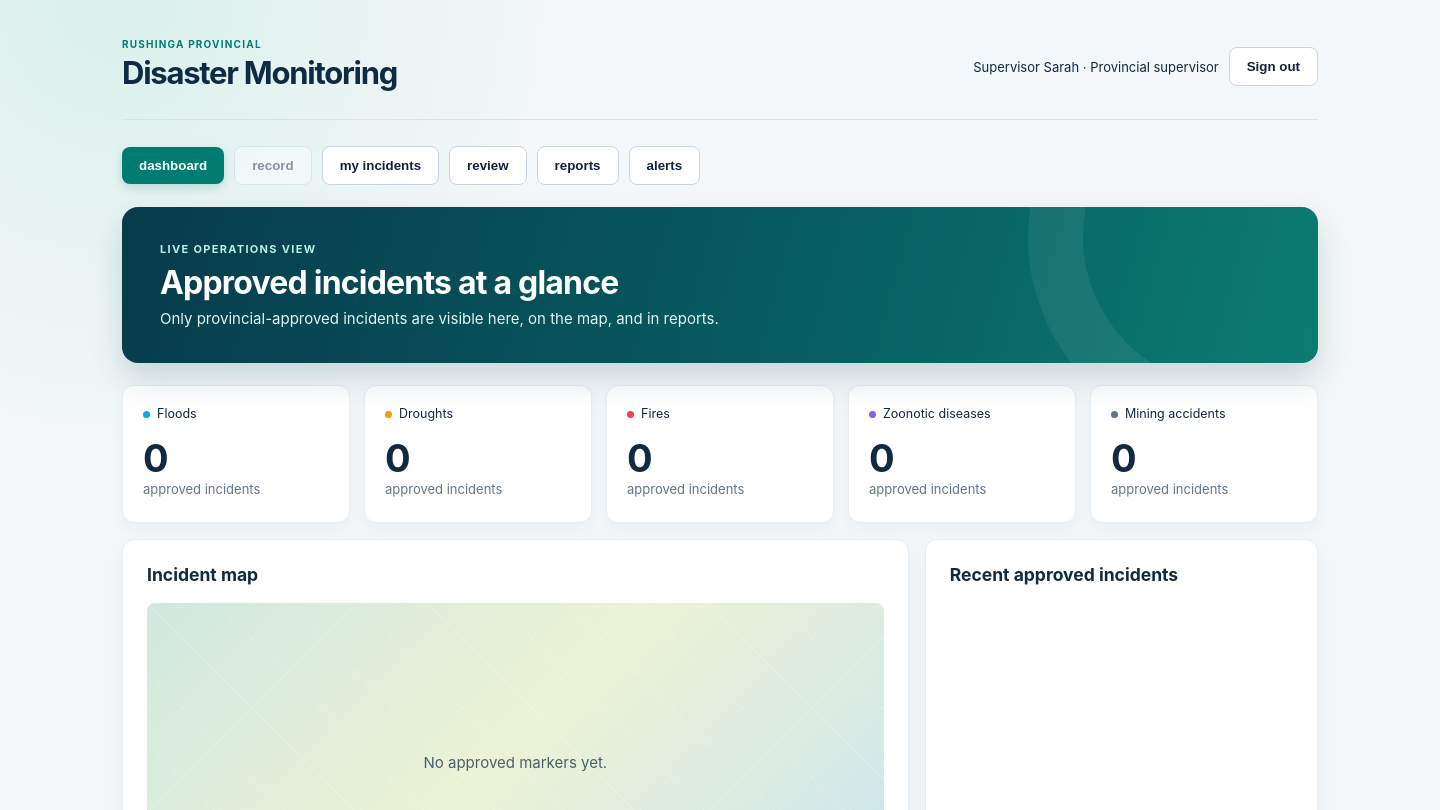
Scenario: Supervisor Review, Decision and Dashboard Isolation Workflow › requests correction with mandatory reason and transitions incident to CORRECTION_REQUESTED
Click the button "review" at {"x": 488, "y": 166}, box x1=449 y1=146 x2=527 y2=185
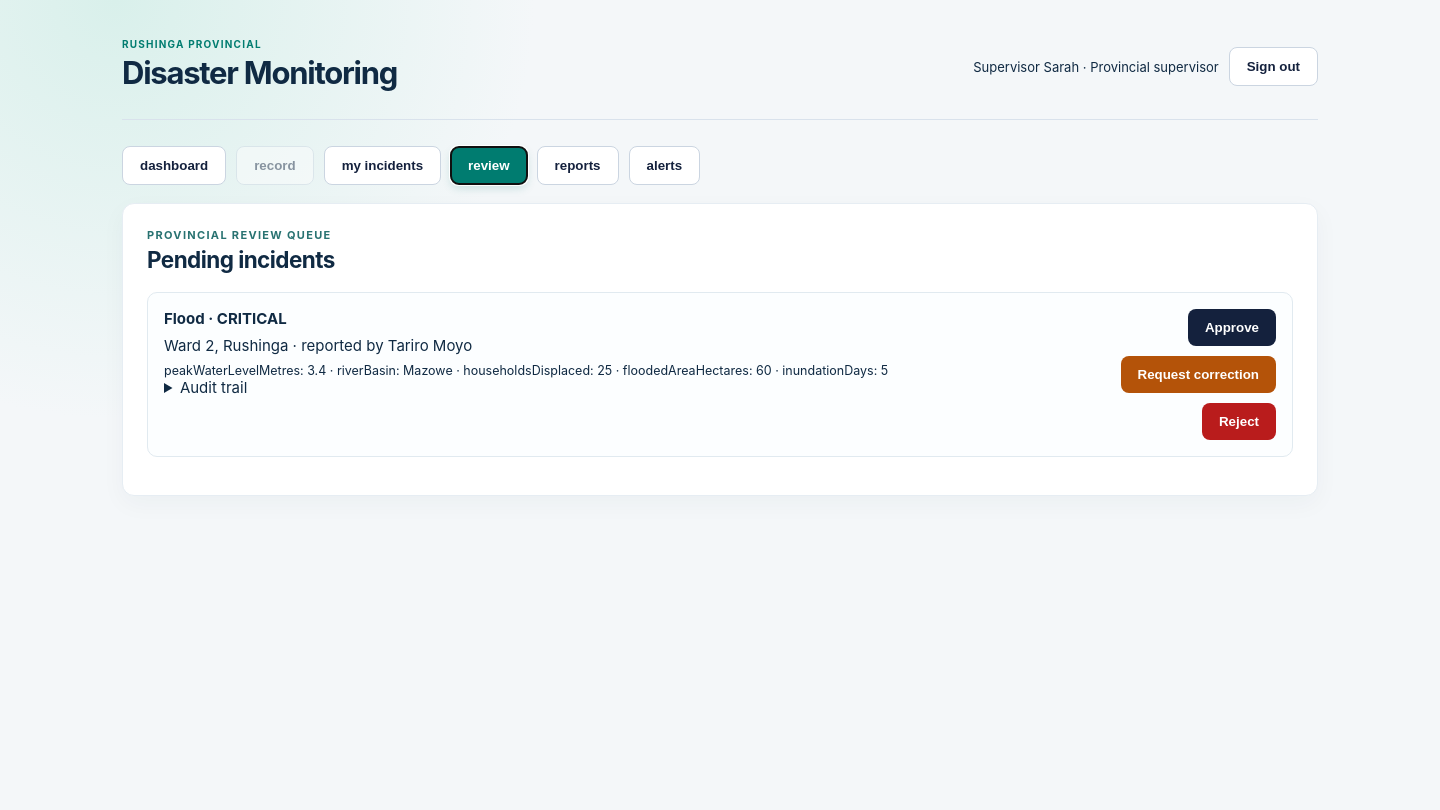
Click Request correction
Click the button "Request correction" at {"x": 1198, "y": 374}, box x1=1120 y1=356 x2=1276 y2=393
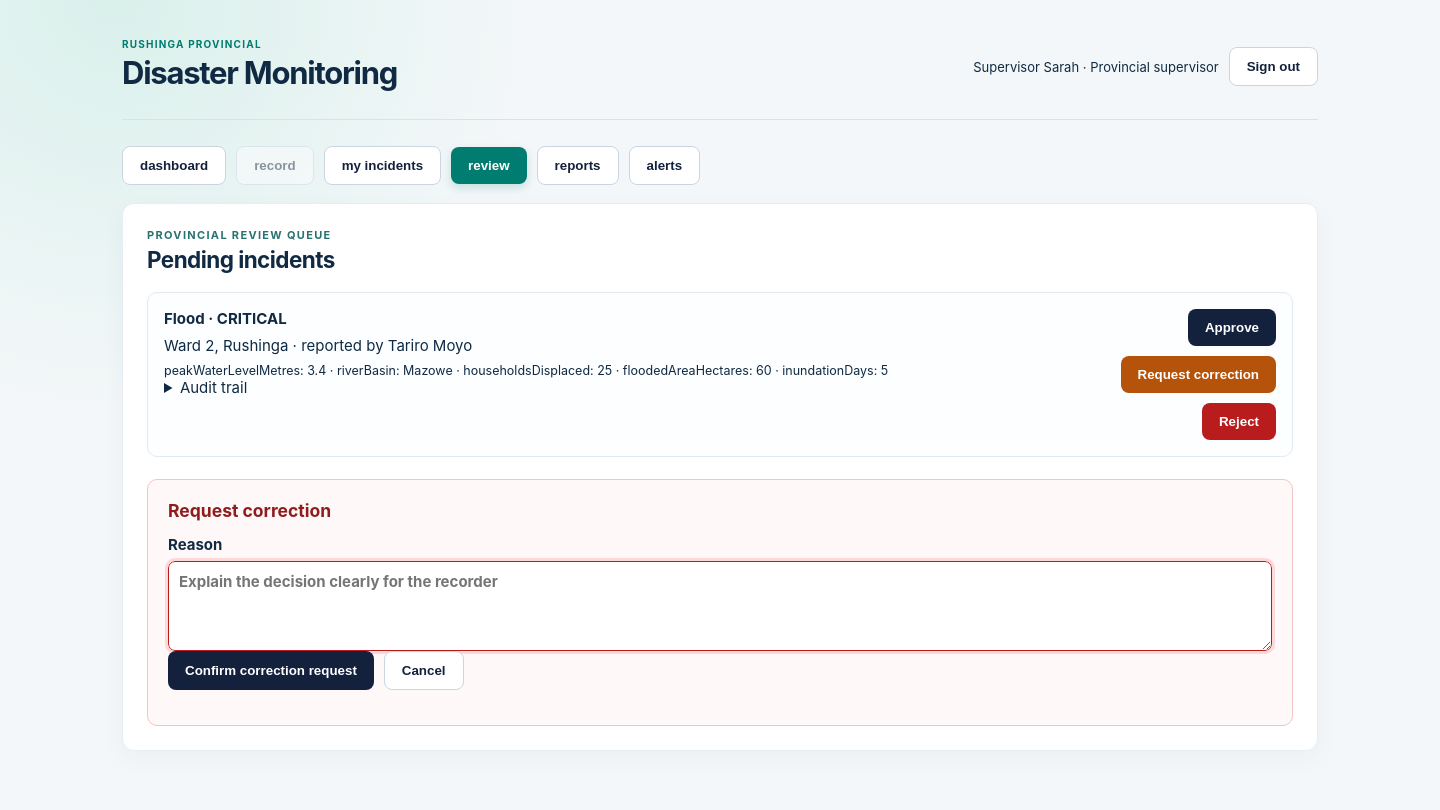
Expected: the heading "Request correction" is shown, x1=168 y1=500 x2=331 y2=521
Type "Please confirm water level gauge reading at bridge." into the text box with placeholder "Explain the decision clearly for the recorder" at {"x": 720, "y": 606}, box x1=168 y1=561 x2=1272 y2=651
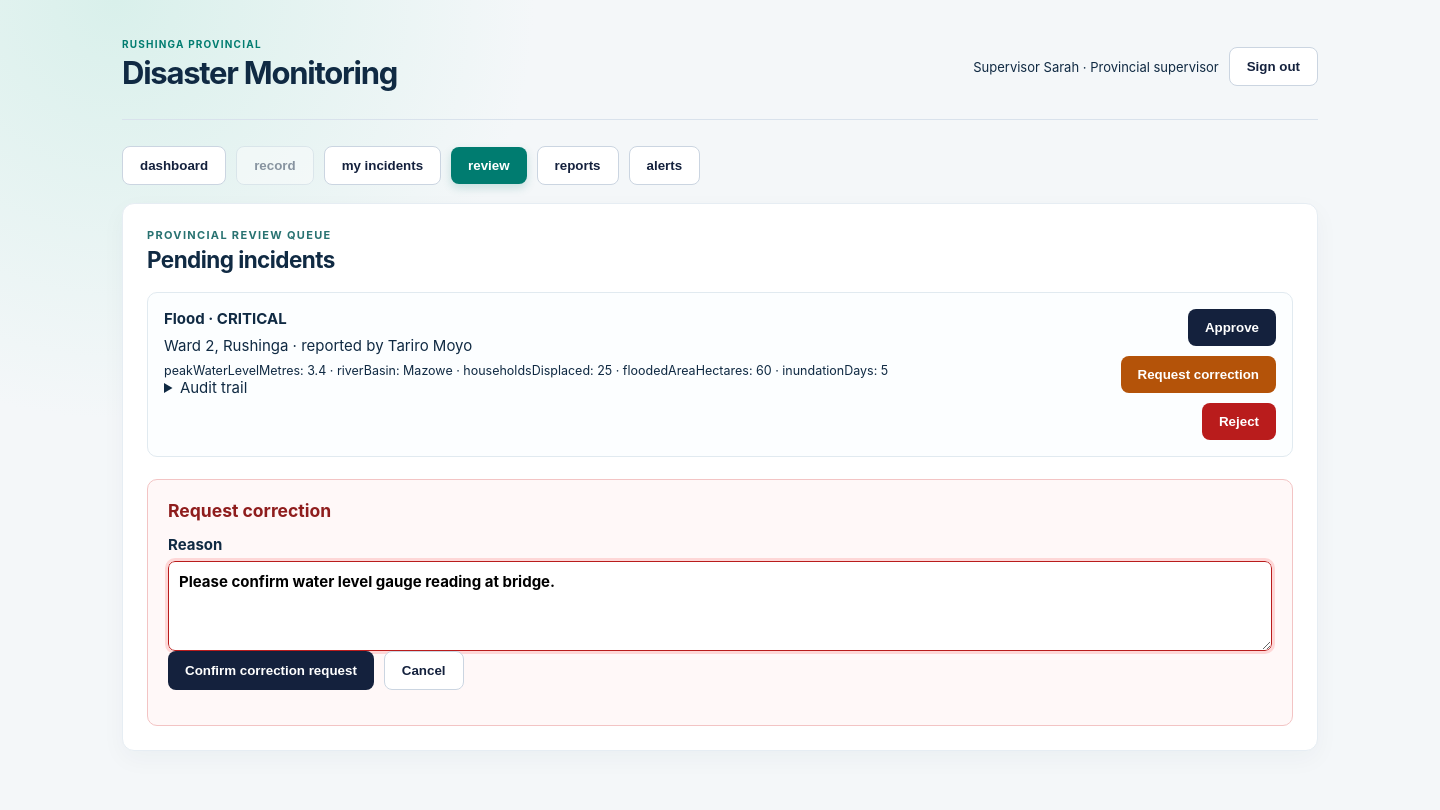
Click the button "Confirm correction request" at {"x": 271, "y": 670}, box x1=168 y1=651 x2=374 y2=690
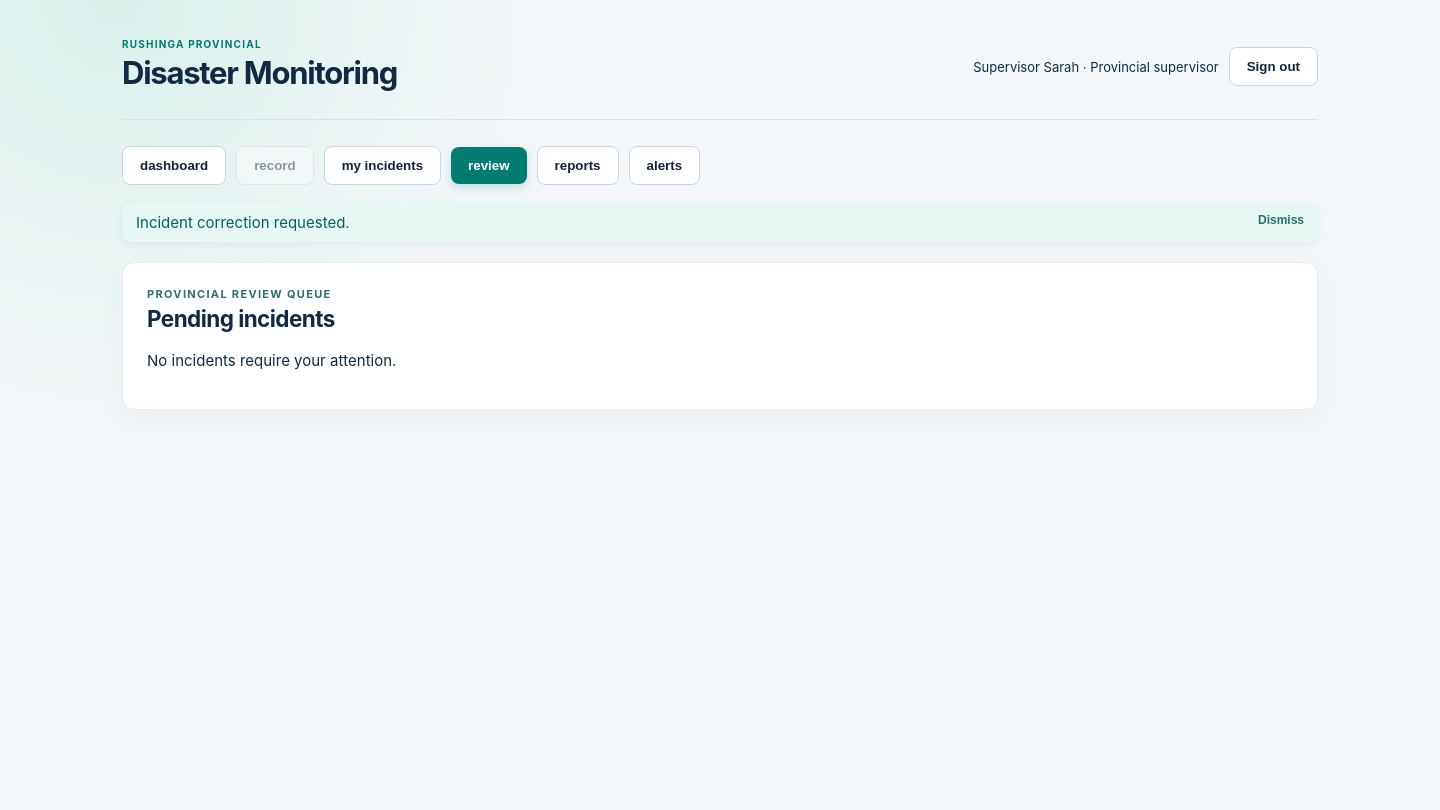
Expected: the text "Incident correction requested. Dismiss" is shown, x1=122 y1=203 x2=1318 y2=242
Expected: the text "No incidents require your attention." is shown, x1=147 y1=351 x2=396 y2=370
